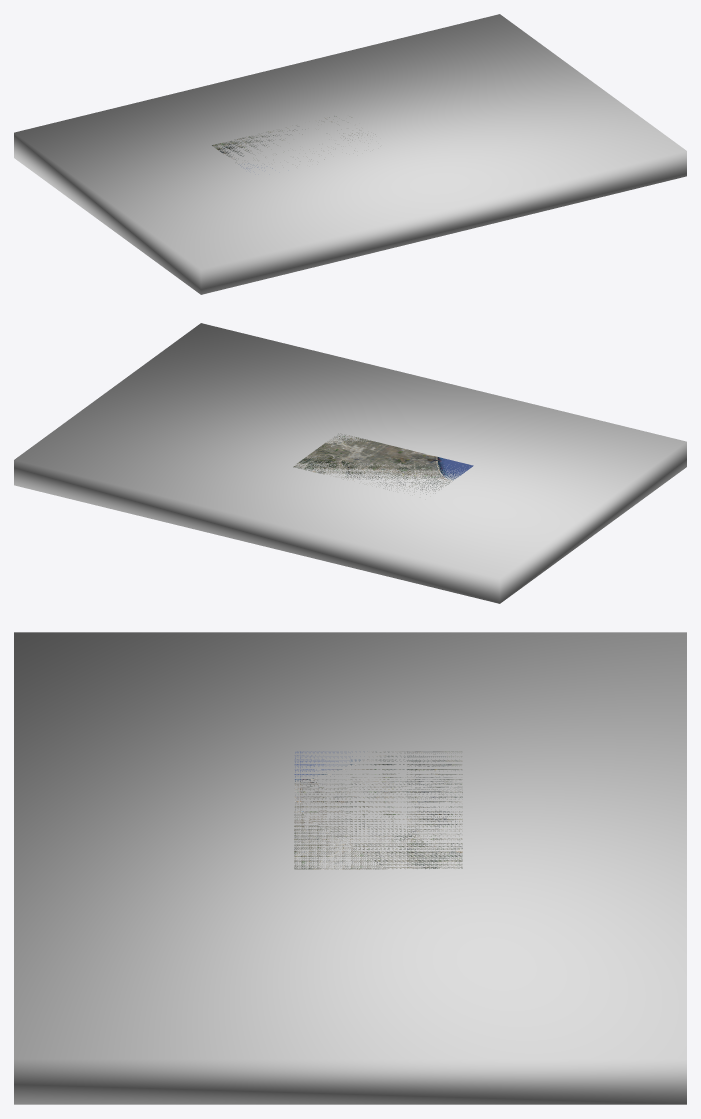
File: LA_medium.glb
3 views of the same model, one above another, from view 1: azimuth 30°, elevation 25°; view 2: azimuth 150°, elevation 25°; view 3: azimuth 270°, elevation 25° (orthographic). The views are drawn at different scales.
Visible parts, largest first — view 1: EXPORT_GOOGLE_SAT_WM, EXPORT_GOOGLE_SAT_WM.001; view 2: EXPORT_GOOGLE_SAT_WM, EXPORT_GOOGLE_SAT_WM.001; view 3: EXPORT_GOOGLE_SAT_WM, EXPORT_GOOGLE_SAT_WM.001.
Part boxes in pixels (left/top/right/bottom): EXPORT_GOOGLE_SAT_WM: left=14, top=14, right=686, bottom=294; EXPORT_GOOGLE_SAT_WM.001: left=212, top=116, right=375, bottom=168; EXPORT_GOOGLE_SAT_WM: left=14, top=323, right=686, bottom=603; EXPORT_GOOGLE_SAT_WM.001: left=293, top=433, right=473, bottom=494; EXPORT_GOOGLE_SAT_WM: left=14, top=632, right=686, bottom=1104; EXPORT_GOOGLE_SAT_WM.001: left=294, top=751, right=462, bottom=869.
Size of the model in its own units: 176111 by 8797 by 117407.
Materials: 2 (1 with a texture image).
